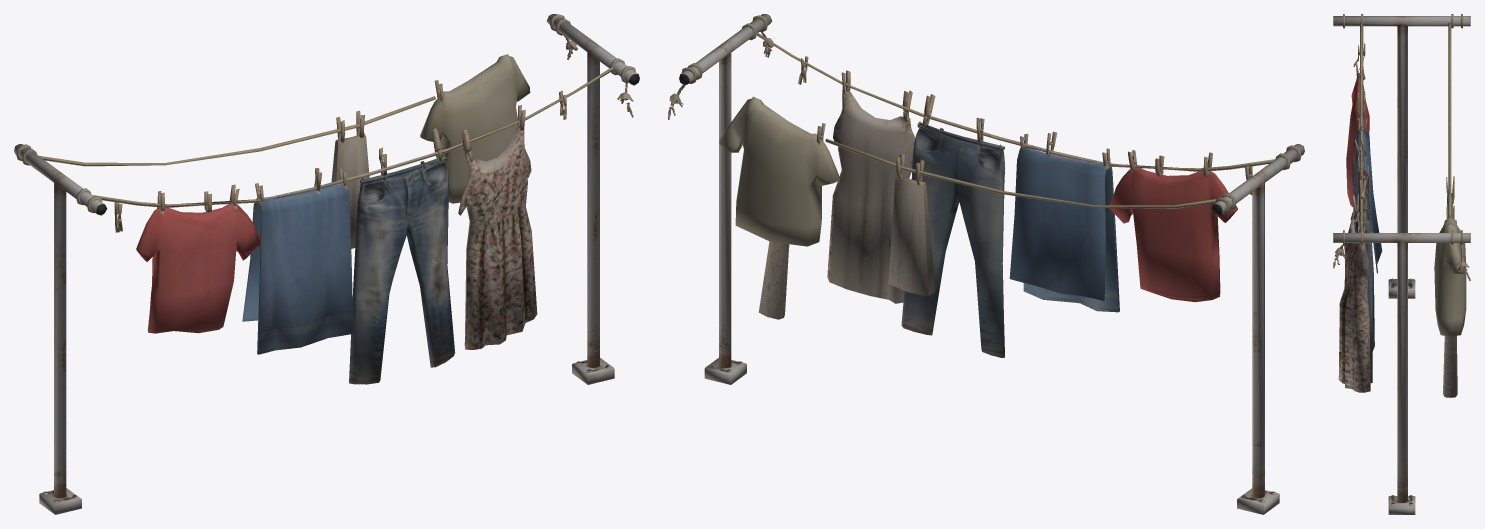
Rendered from javaporcos_mint_varal.glb.
3 views of the same model, side by side, from view 1: azimuth 30°, elevation 25°; view 2: azimuth 150°, elevation 25°; view 3: azimuth 270°, elevation 25° (orthographic). The views are drawn at different scales.
Visible parts, largest first — view 1: Varal com roupas; view 2: Varal com roupas; view 3: Varal com roupas.
Part boxes in pixels (box(x1,y1,x2,y2)): Varal com roupas: box(14, 14, 639, 514); Varal com roupas: box(668, 14, 1304, 514); Varal com roupas: box(1333, 14, 1470, 514).
Bounding box in the file's own units: 4 × 2.26 × 1.01.
Materials: 1 (1 with a texture image).
